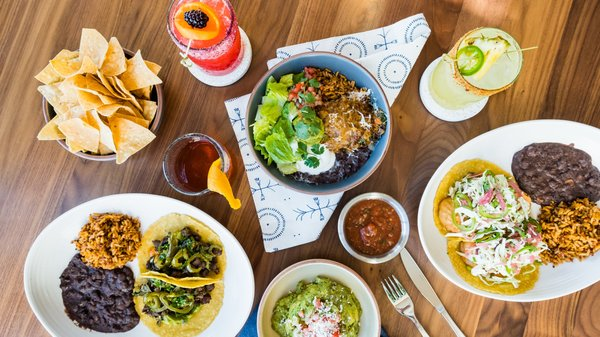sushi: (22, 194, 254, 335), (242, 53, 393, 196), (257, 258, 382, 337), (335, 191, 411, 266)
